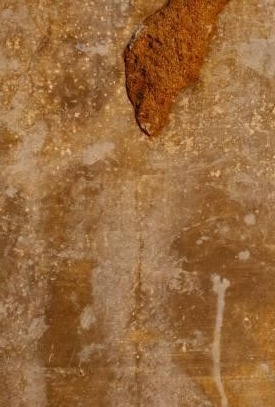Corrosion: (123, 1, 231, 136)
